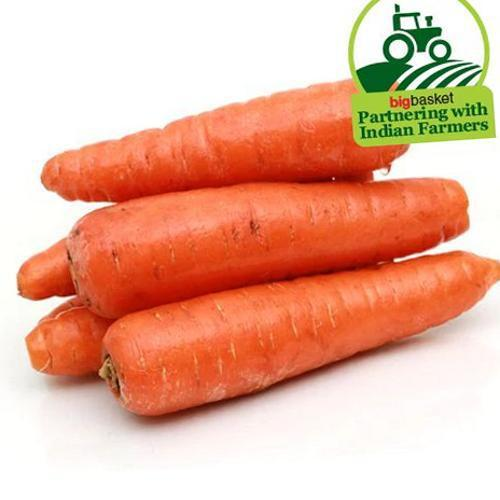carrot: (36, 109, 478, 412), (60, 188, 477, 366)
